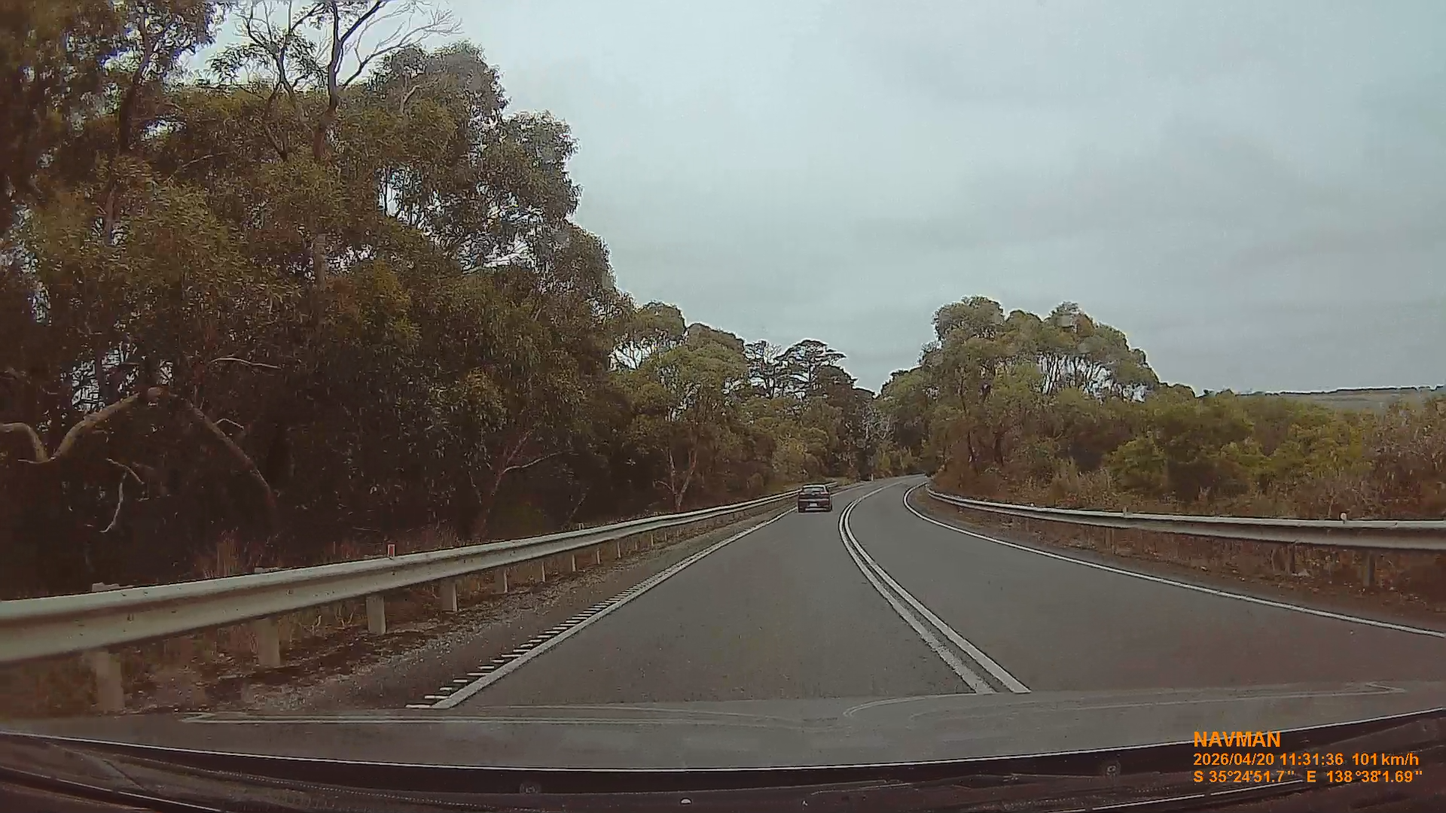road barriers: (0, 489, 794, 708), (930, 492, 1446, 552)
